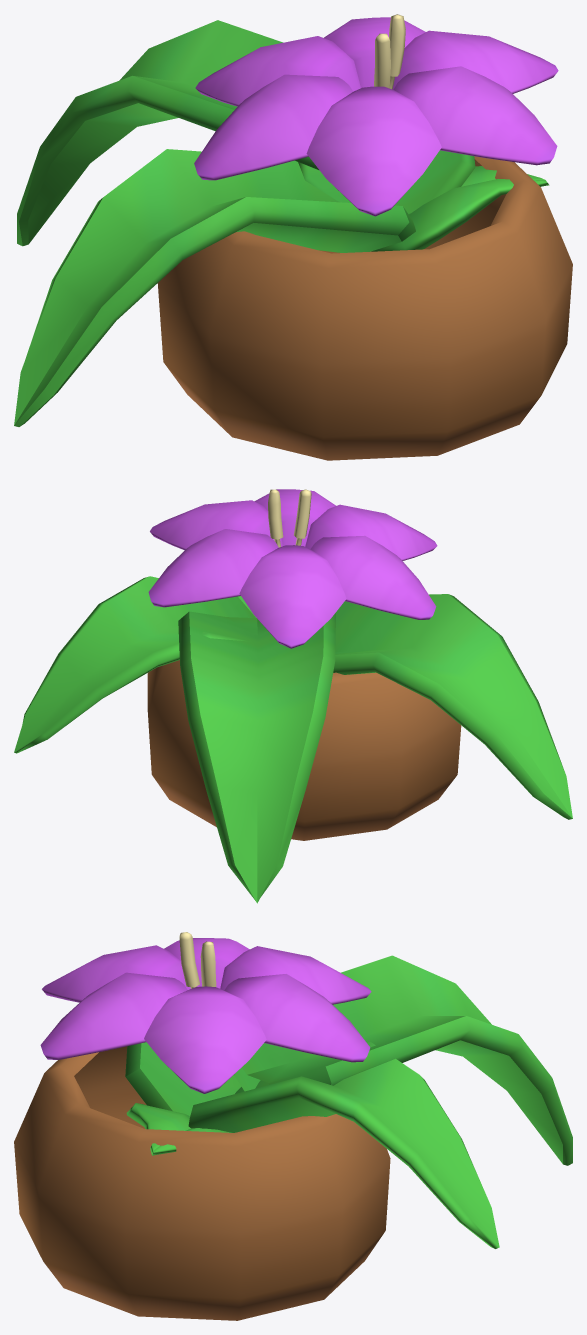
The model's file is Pot_08.fbx.
3 views of the same model, one above another, from view 1: azimuth 30°, elevation 25°; view 2: azimuth 150°, elevation 25°; view 3: azimuth 270°, elevation 25° (orthographic). The views are drawn at different scales.
Visible parts, largest first — view 1: Pot_08, Flower_01, Leaf_02, Leaf_04, Leaf_01, Leaf_03; view 2: Leaf_04, Flower_01, Pot_08, Leaf_02, Leaf_03; view 3: Pot_08, Flower_01, Leaf_04, Leaf_03, Leaf_02, Leaf_01.
Part boxes in pixels (<box>): Pot_08: <box>157,156,572,460</box>; Flower_01: <box>194,14,558,216</box>; Leaf_02: <box>14,149,415,426</box>; Leaf_04: <box>17,20,318,246</box>; Leaf_01: <box>371,166,549,251</box>; Leaf_03: <box>298,150,475,213</box>; Leaf_04: <box>178,611,335,903</box>; Flower_01: <box>148,489,437,648</box>; Pot_08: <box>147,660,461,840</box>; Leaf_02: <box>333,594,572,819</box>; Leaf_03: <box>14,576,255,753</box>; Pot_08: <box>14,1046,390,1320</box>; Flower_01: <box>40,932,371,1093</box>; Leaf_04: <box>234,955,572,1165</box>; Leaf_03: <box>188,1042,499,1248</box>; Leaf_02: <box>125,1042,241,1116</box>; Leaf_01: <box>126,1103,231,1155</box>.
Bounding box in the file's own units: 2.55 × 1.61 × 2.45.
1 material, 1 textured.
